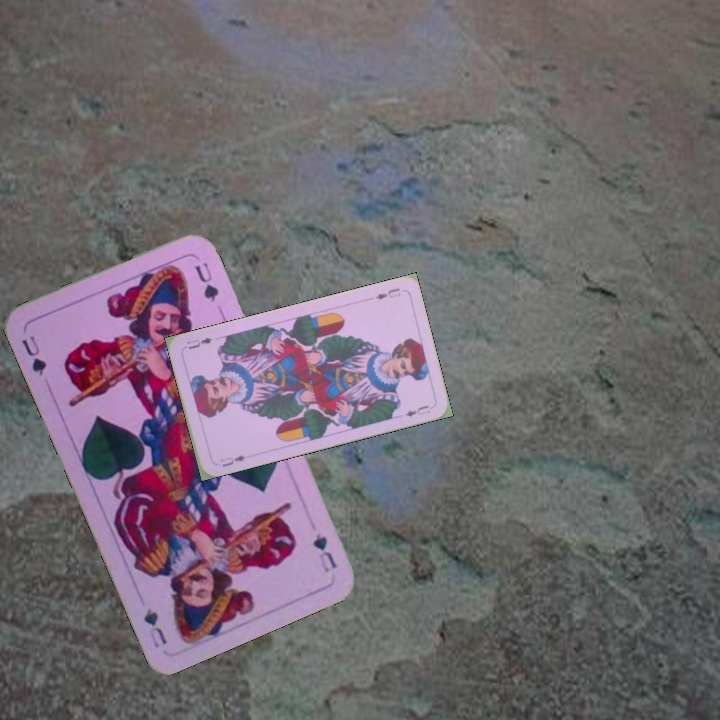EU: (217, 451, 252, 470), (372, 284, 404, 302)
GU: (18, 331, 50, 378), (308, 529, 340, 576)
